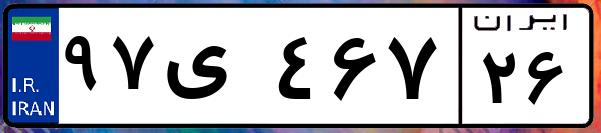2: (475, 38, 525, 113)
4: (270, 28, 330, 110)
6: (330, 28, 385, 110), (525, 38, 570, 115)
7: (385, 28, 445, 110), (110, 28, 158, 98)
9: (57, 26, 110, 100)
ی: (158, 20, 270, 120)
